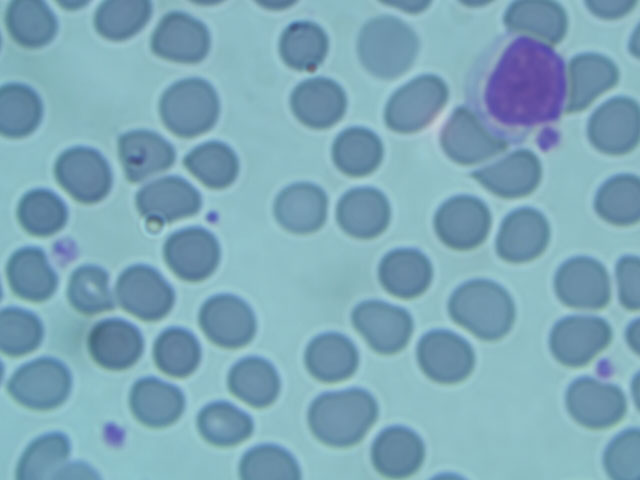Platelets: (93, 415, 131, 452), (586, 346, 622, 382), (51, 228, 84, 266), (201, 197, 229, 229)
RBC: (450, 278, 518, 339), (55, 146, 114, 202), (271, 179, 330, 235), (336, 183, 395, 239), (329, 120, 388, 176), (273, 15, 332, 71), (289, 76, 348, 132), (384, 74, 443, 130), (357, 18, 416, 74), (160, 82, 219, 138), (201, 290, 260, 346), (166, 224, 225, 280), (154, 8, 213, 64), (441, 111, 500, 167), (485, 145, 544, 201), (432, 193, 491, 249), (564, 373, 623, 429), (548, 306, 607, 362), (553, 254, 612, 310), (581, 95, 640, 151), (493, 206, 552, 262), (229, 351, 288, 407), (366, 420, 425, 476), (311, 386, 370, 442), (305, 327, 364, 383), (355, 297, 414, 353), (376, 240, 435, 296), (417, 329, 476, 385), (192, 135, 251, 191), (63, 264, 122, 320), (89, 315, 148, 371), (117, 260, 176, 316), (150, 320, 209, 376), (135, 171, 194, 227), (116, 125, 175, 181), (7, 356, 66, 412), (197, 390, 256, 446), (129, 373, 188, 429), (1, 304, 59, 360), (2, 1, 61, 56), (1, 244, 56, 301), (590, 174, 640, 226), (90, 1, 145, 45), (1, 81, 42, 134)
WBC: (473, 36, 569, 125)
